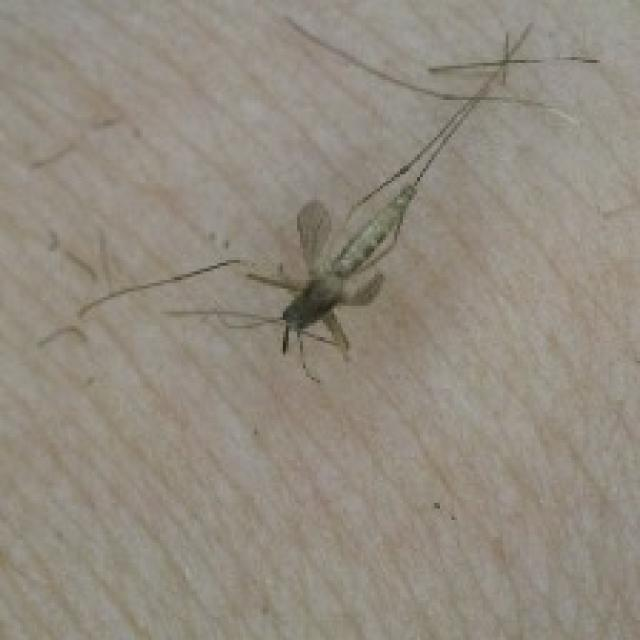culex: (49, 17, 597, 386)
